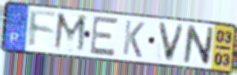E: (88, 15, 121, 58)
F: (28, 9, 59, 50)
K: (121, 19, 147, 60)
M: (52, 11, 89, 56)
N: (181, 24, 215, 67)
V: (156, 20, 187, 64)
